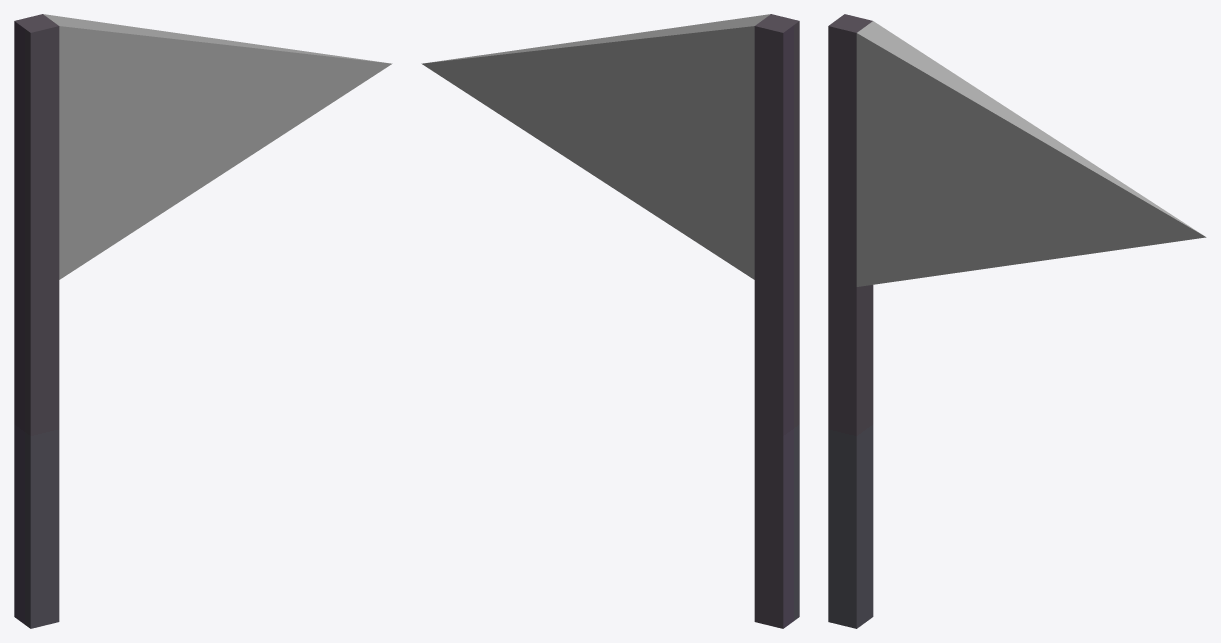
The model's file is SS_Castle_Flag.fbx.
3 views of the same model, side by side, from view 1: azimuth 30°, elevation 25°; view 2: azimuth 150°, elevation 25°; view 3: azimuth 330°, elevation 25° (orthographic).
Parts seen in each view (by area): view 1: Castle_Flag; view 2: Castle_Flag; view 3: Castle_Flag.
Part boxes in pixels (x1,y1,x2,y2): Castle_Flag: [14, 14, 392, 628]; Castle_Flag: [421, 14, 799, 628]; Castle_Flag: [828, 14, 1206, 628].
Bounding box in the file's own units: 3.25 × 5 × 0.25.
